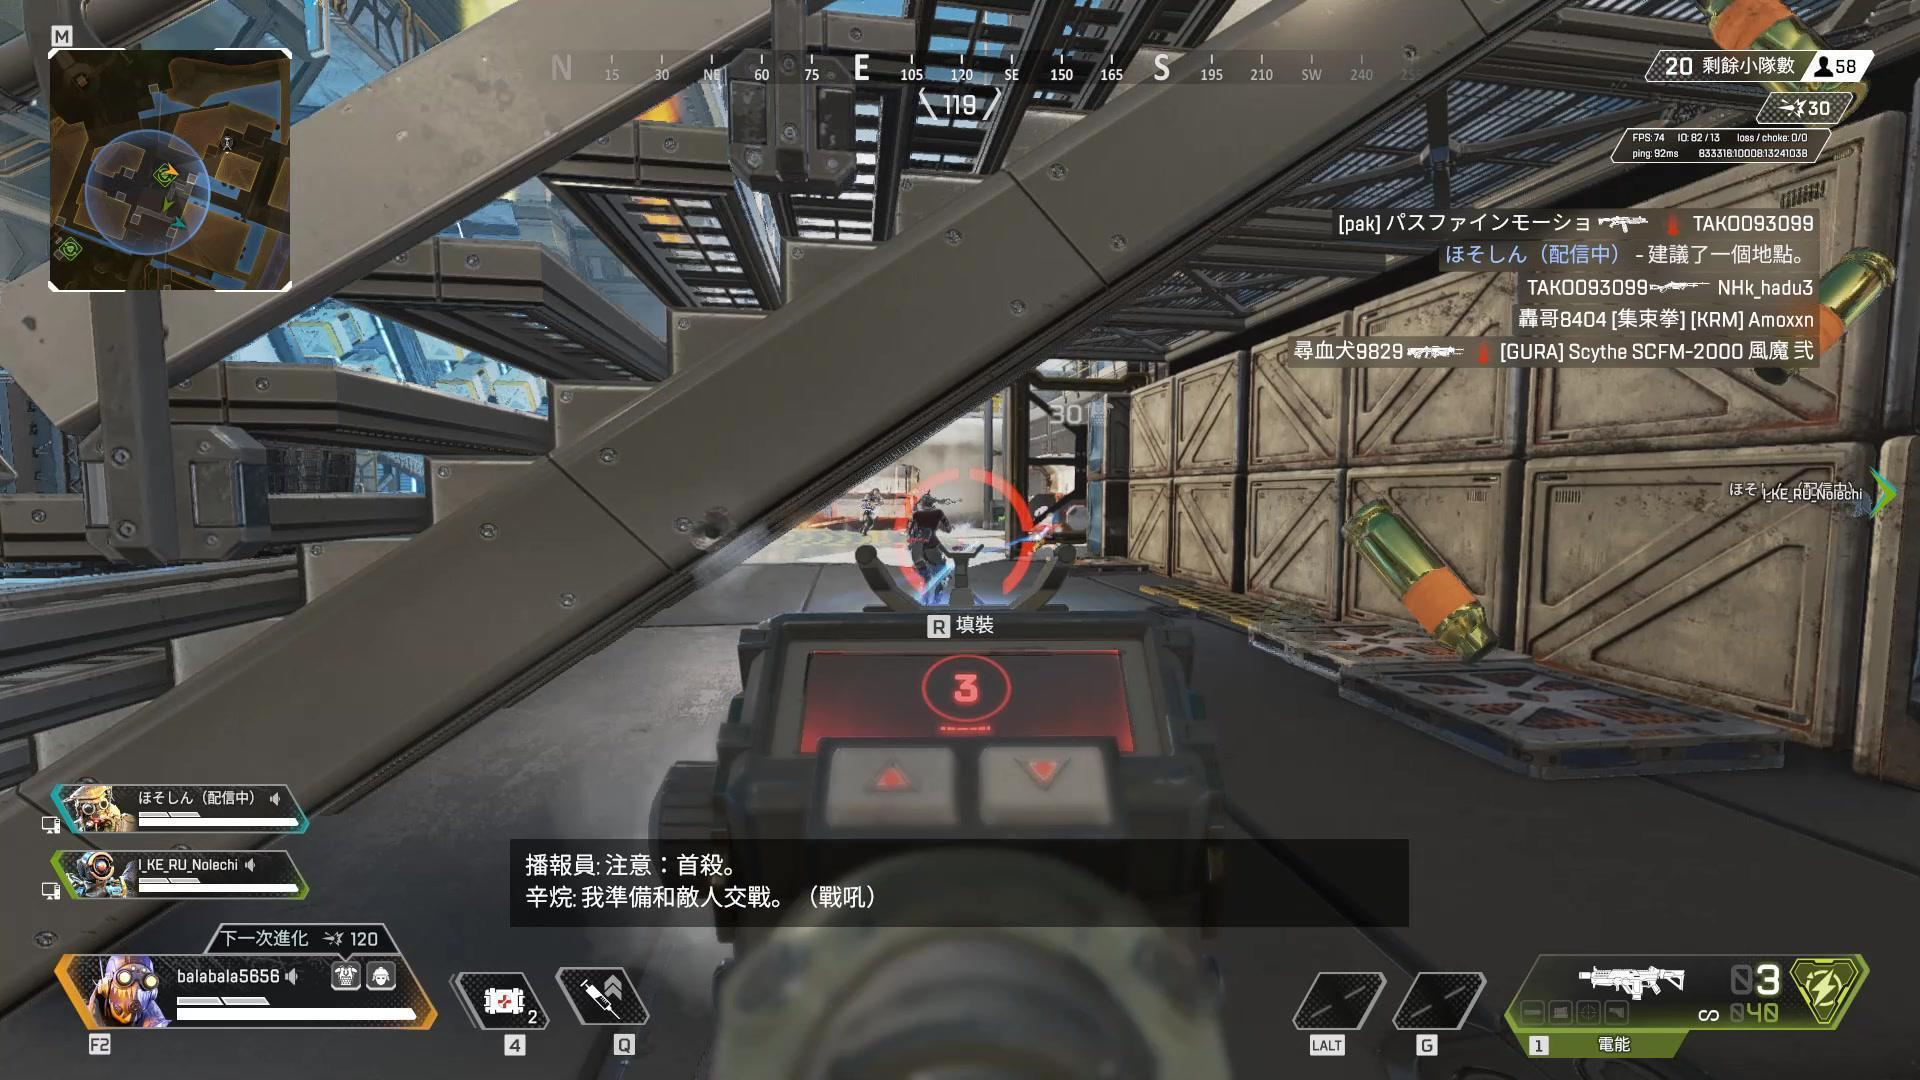avatar: (905, 491, 954, 607)
